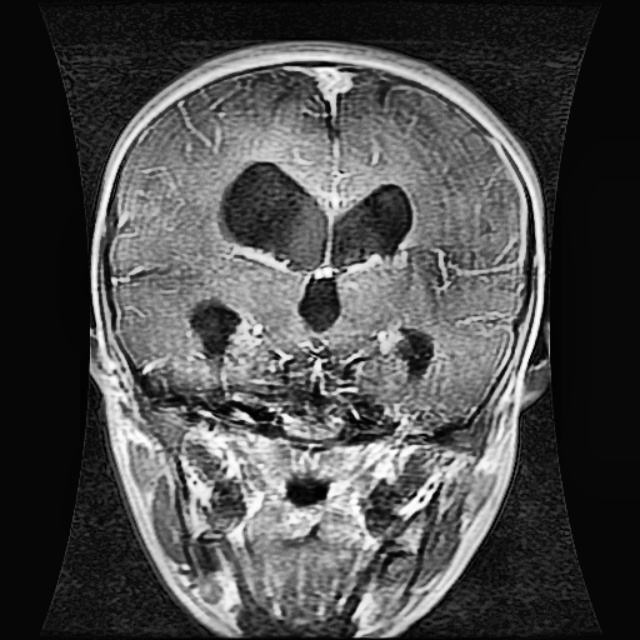Meningioma: (217, 157, 332, 274)
